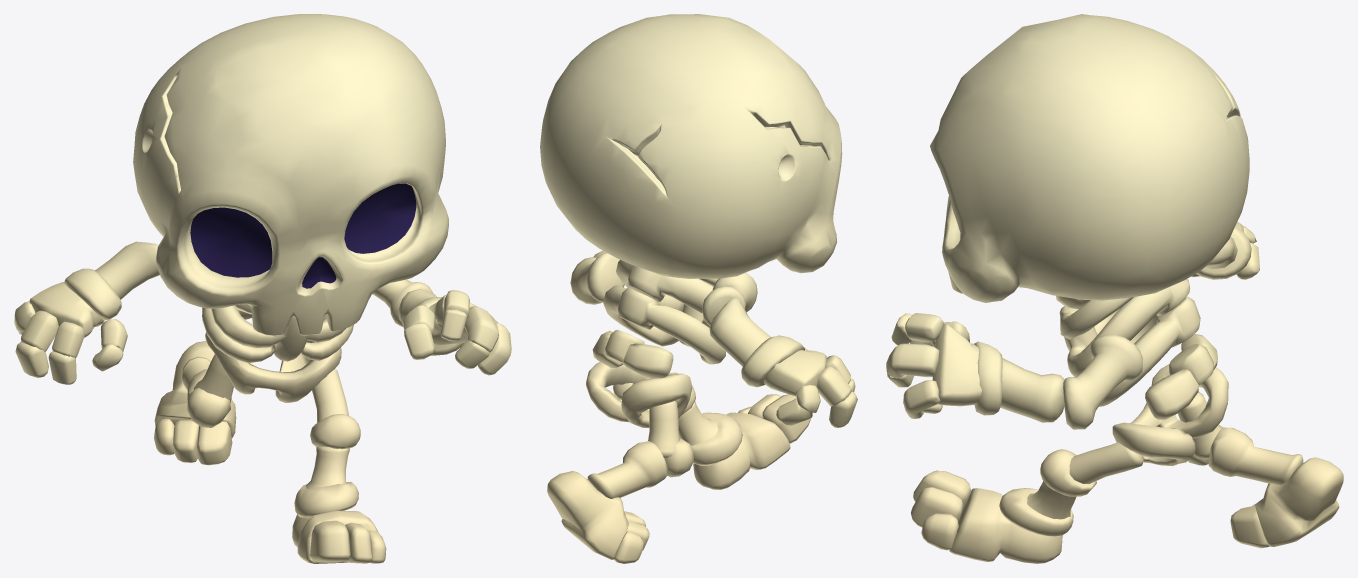
File: WBA_Character_Skeleton_01.fbx
3 views of the same model, side by side, from view 1: azimuth 30°, elevation 25°; view 2: azimuth 150°, elevation 25°; view 3: azimuth 270°, elevation 25° (orthographic). The views are drawn at different scales.
Parts seen in each view (by area): view 1: WBA_Character_Skeleton_01; view 2: WBA_Character_Skeleton_01; view 3: WBA_Character_Skeleton_01.
Part boxes in pixels (x1=…): WBA_Character_Skeleton_01: x1=14, y1=14, x2=511, y2=563; WBA_Character_Skeleton_01: x1=540, y1=14, x2=857, y2=563; WBA_Character_Skeleton_01: x1=886, y1=14, x2=1343, y2=563.
Bounding box in the file's own units: 110 × 144 × 114.
